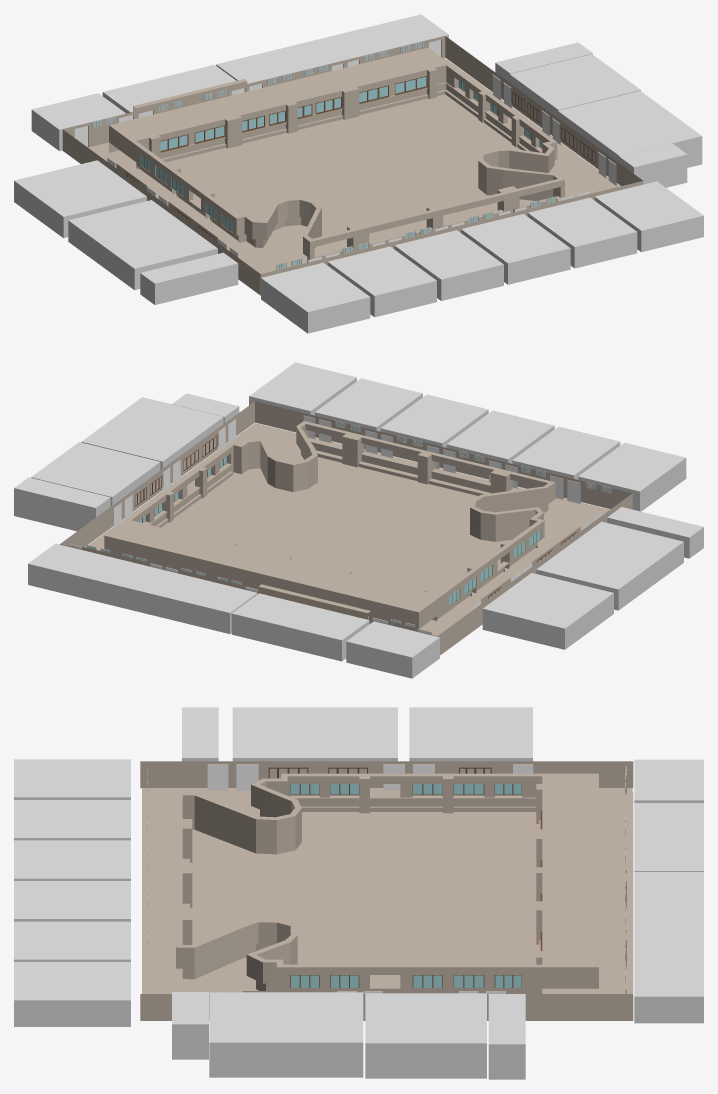
Rendered from PlaneAllCube.glb.
3 views of the same model, one above another, from view 1: azimuth 30°, elevation 25°; view 2: azimuth 150°, elevation 25°; view 3: azimuth 270°, elevation 25° (orthographic). The views are drawn at different scales.
Parts seen in each view (by area): view 1: 8樓主體, 舞蹈教室立方體.004, 舞蹈教室立方體.012, 815立方體, 舞蹈教室立方體.003, 舞蹈教室立方體.006, 舞蹈教室立方體.010, 舞蹈教室立方體.007, 舞蹈教室立方體.009, 舞蹈教室立方體.008, 舞蹈教室立方體.011, 舞蹈教室立方體.013 (+5 smaller); view 2: 8樓主體, 815立方體, 舞蹈教室立方體.004, 舞蹈教室立方體.003, 813立方體.001, 舞蹈教室立方體.012, 舞蹈教室立方體.013, 舞蹈教室立方體.006, 舞蹈教室立方體.002, 舞蹈教室立方體.015, 舞蹈教室立方體.011, 舞蹈教室立方體.009 (+5 smaller); view 3: 8樓主體, 舞蹈教室立方體.012, 815立方體, 舞蹈教室立方體.013, 舞蹈教室立方體.004, 舞蹈教室立方體.011, 舞蹈教室立方體.003, 813立方體.001, 舞蹈教室立方體.006, 舞蹈教室立方體.007, 舞蹈教室立方體.008, 舞蹈教室立方體.009 (+5 smaller).
Boxes of the visible parts, x1,y1,x2,y2 form: 8樓主體: (62,36,643,295); 舞蹈教室立方體.004: (68,200,217,290); 舞蹈教室立方體.012: (558,91,702,167); 815立方體: (216,14,448,83); 舞蹈教室立方體.003: (14,160,146,238); 舞蹈教室立方體.006: (261,262,370,333); 舞蹈教室立方體.010: (527,197,637,268); 舞蹈教室立方體.007: (327,246,436,317); 舞蹈教室立方體.009: (461,214,570,284); 舞蹈教室立方體.008: (394,230,503,300); 舞蹈教室立方體.011: (594,181,703,252); 舞蹈教室立方體.013: (509,54,640,117); 8樓主體: (59,401,632,655); 815立方體: (28,543,257,633); 舞蹈教室立方體.004: (536,521,683,610); 舞蹈教室立方體.003: (482,573,613,649); 813立方體.001: (231,593,369,661); 舞蹈教室立方體.012: (81,397,223,470); 舞蹈教室立方體.013: (31,442,160,506); 舞蹈教室立方體.006: (578,442,686,511); 舞蹈教室立方體.002: (346,621,439,678); 舞蹈教室立方體.015: (14,477,110,531); 舞蹈教室立方體.011: (249,362,356,415); 舞蹈教室立方體.009: (380,394,488,447); 8樓主體: (140,761,633,1020); 舞蹈教室立方體.012: (209,992,363,1077); 815立方體: (634,872,703,1023); 舞蹈教室立方體.013: (365,993,486,1078); 舞蹈教室立方體.004: (232,707,397,761); 舞蹈教室立方體.011: (14,962,130,1026); 舞蹈教室立方體.003: (409,707,532,761); 813立方體.001: (634,803,703,871); 舞蹈教室立方體.006: (14,759,130,799); 舞蹈教室立方體.007: (14,800,130,840); 舞蹈教室立方體.008: (14,840,130,880); 舞蹈教室立方體.009: (14,881,130,921).
Bounding box in the file's own units: 7.33 × 0.3876 × 6.26.
